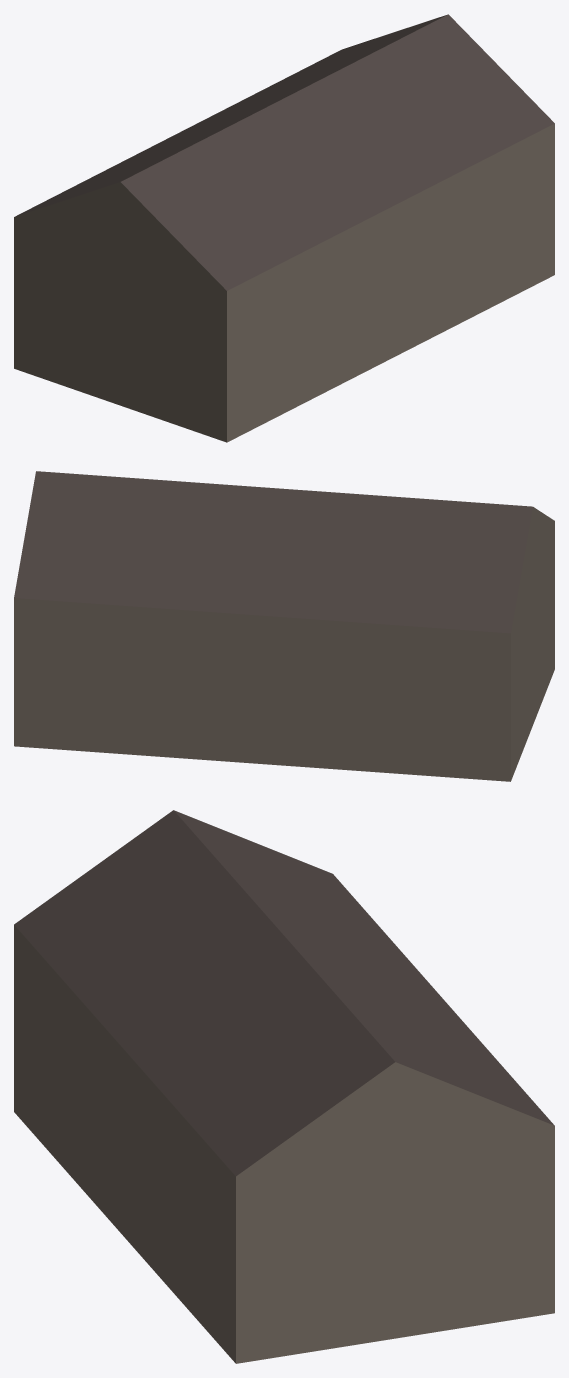
3 renders of one model, top to bottom at view 1: azimuth 30°, elevation 25°; view 2: azimuth 150°, elevation 25°; view 3: azimuth 270°, elevation 25°, orthographic. The views are drawn at different scales.
Visible parts, largest first — view 1: HP-w373833604; view 2: HP-w373833604; view 3: HP-w373833604.
Part boxes in pixels (<box>): HP-w373833604: <box>14,14,554,442</box>; HP-w373833604: <box>14,471,554,781</box>; HP-w373833604: <box>14,810,554,1363</box>.
Size of the model in its own units: 20.78 by 8.85 by 15.7.
